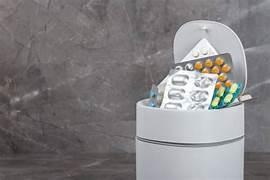pill_Strip: (161, 70, 217, 109), (175, 53, 238, 85), (182, 38, 217, 61), (210, 83, 240, 108), (148, 84, 157, 106)
